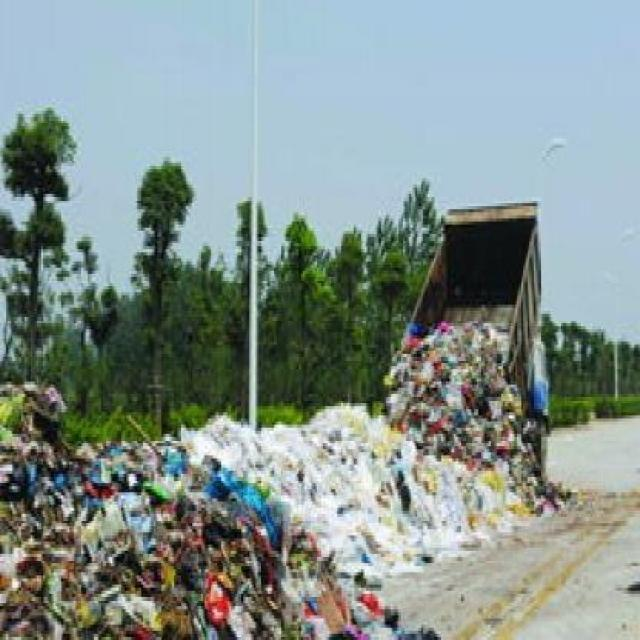garbage: (5, 400, 340, 637), (398, 330, 500, 533)
